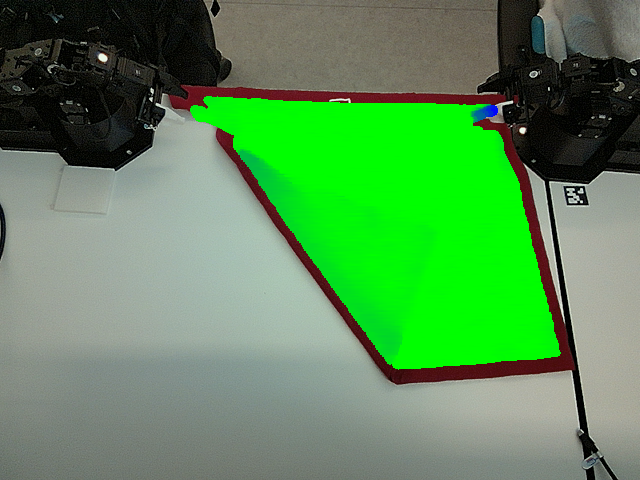V: (382, 204, 462, 265)
